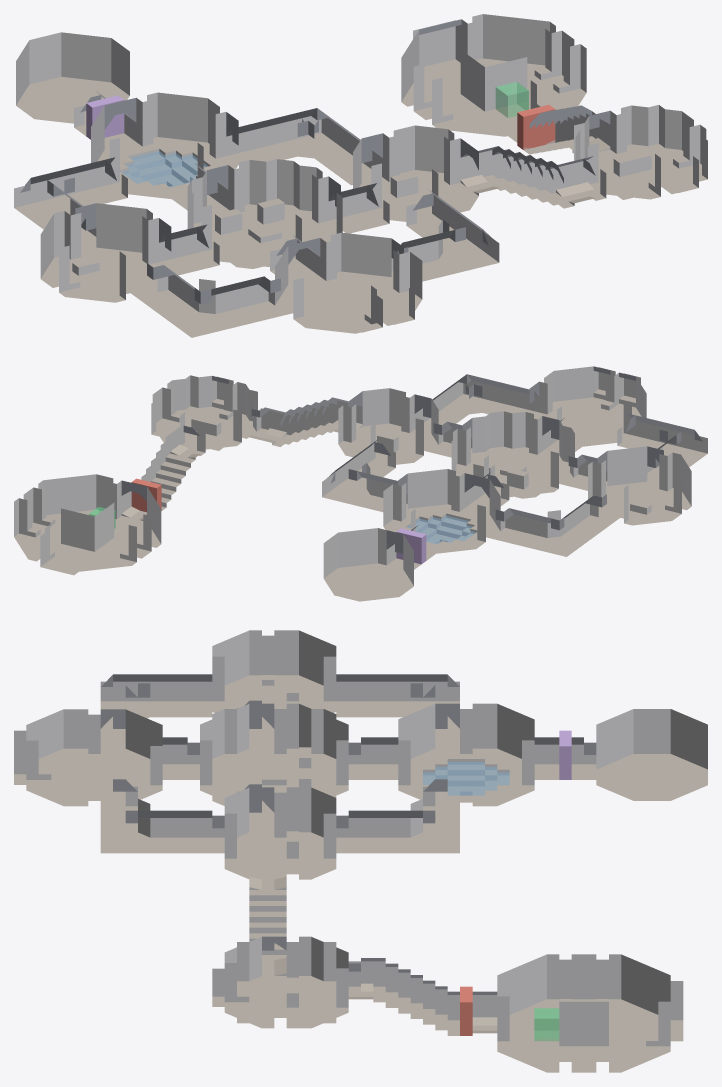
The model's file is station_2_ring_research.glb.
3 renders of one model, top to bottom at view 1: azimuth 30°, elevation 25°; view 2: azimuth 150°, elevation 25°; view 3: azimuth 270°, elevation 25°, orthographic. The views are drawn at different scales.
Visible parts, largest first — view 1: room:5, room:6, room:0, room:7, room:1, room:4, room:2, room:3, corridor:0, corridor:2, corridor:3, corridor:7 (+21 smaller); view 2: room:5, room:6, room:7, room:1, room:0, room:4, room:2, room:3, corridor:1, corridor:7, corridor:2, corridor:3 (+21 smaller); view 3: room:5, room:6, room:0, room:7, room:2, room:4, room:3, room:1, corridor:7, corridor:2, corridor:4, corridor:1 (+18 smaller).
Part boxes in pixels (bbox=[...]): room:5: bbox=[401, 14, 586, 136]; room:6: bbox=[187, 159, 342, 268]; room:0: bbox=[275, 232, 422, 333]; room:7: bbox=[16, 32, 129, 124]; room:1: bbox=[40, 203, 171, 302]; room:4: bbox=[574, 105, 707, 199]; room:2: bbox=[91, 92, 238, 199]; room:3: bbox=[353, 125, 478, 222]; corridor:0: bbox=[137, 263, 286, 337]; corridor:2: bbox=[226, 108, 382, 185]; corridor:3: bbox=[460, 146, 606, 208]; corridor:7: bbox=[391, 189, 499, 281]; room:5: bbox=[14, 474, 161, 571]; room:6: bbox=[451, 411, 574, 498]; room:7: bbox=[323, 528, 413, 601]; room:1: bbox=[588, 446, 691, 525]; room:0: bbox=[529, 366, 646, 446]; room:4: bbox=[151, 375, 257, 450]; room:2: bbox=[383, 469, 500, 553]; room:3: bbox=[338, 388, 438, 465]; corridor:1: bbox=[491, 494, 614, 556]; corridor:7: bbox=[414, 374, 539, 433]; corridor:2: bbox=[322, 439, 407, 511]; corridor:3: bbox=[247, 397, 362, 446]; room:5: bbox=[497, 954, 670, 1072]; room:6: bbox=[200, 703, 348, 811]; room:0: bbox=[26, 709, 162, 806]; room:7: bbox=[596, 709, 707, 800]; room:2: bbox=[398, 703, 534, 806]; room:4: bbox=[224, 936, 348, 1028]; room:3: bbox=[224, 787, 336, 879]; room:1: bbox=[212, 630, 336, 727]; corridor:7: bbox=[100, 779, 224, 853]; corridor:2: bbox=[336, 779, 459, 853]; corridor:4: bbox=[348, 958, 497, 1035]; corridor:1: bbox=[336, 674, 459, 748].
Size of the model in its own units: 63 by 10 by 56.
